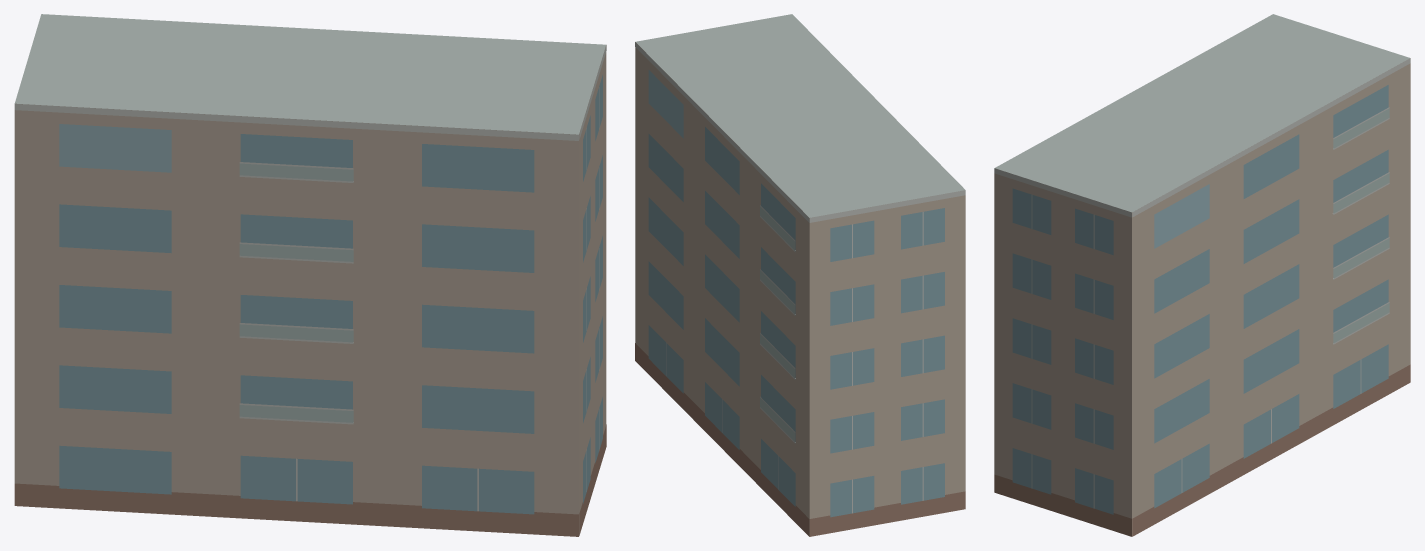
File: survey-upis-32632287.glb
3 views of the same model, side by side, from view 1: azimuth 30°, elevation 25°; view 2: azimuth 150°, elevation 25°; view 3: azimuth 270°, elevation 25° (orthographic). The views are drawn at different scales.
Parts seen in each view (by area): view 1: survey-upis-32632287.tmp; view 2: survey-upis-32632287.tmp; view 3: survey-upis-32632287.tmp.
Boxes of the visible parts, bbox=[...] form: survey-upis-32632287.tmp: bbox=[14, 14, 606, 536]; survey-upis-32632287.tmp: bbox=[635, 14, 965, 536]; survey-upis-32632287.tmp: bbox=[994, 14, 1410, 536].
Size of the model in its own units: 20.01 by 15.25 by 17.74.
